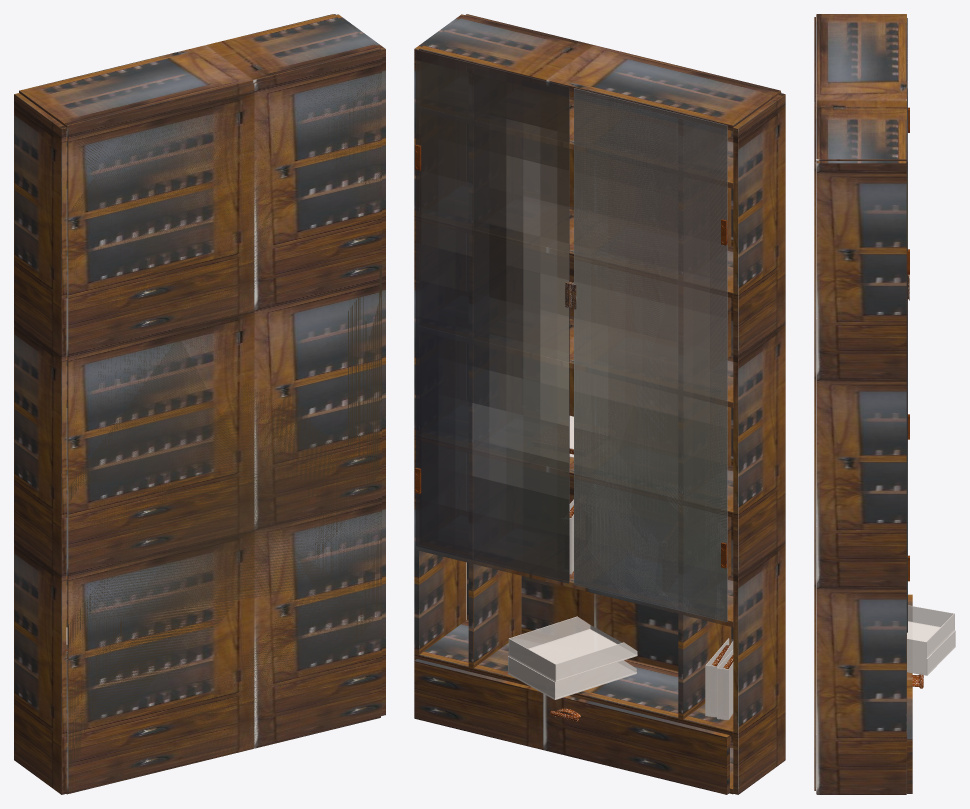
The picture shows the model from 3 angles, left to right: view 1: azimuth 30°, elevation 25°; view 2: azimuth 150°, elevation 25°; view 3: azimuth 270°, elevation 25°; orthographic projection. The views are drawn at different scales.
Visible parts, largest first — view 1: mesh18_mesh18-geometry, mesh20_mesh20-geometry, mesh27_mesh27-geometry, mesh38_mesh38-geometry; view 2: mesh22_mesh22-geometry, mesh37_mesh37-geometry, mesh27_mesh27-geometry, mesh20_mesh20-geometry, mesh24_mesh24-geometry, mesh18_mesh18-geometry, mesh38_mesh38-geometry, mesh9_mesh9-geometry, mesh15_mesh15-geometry, mesh5_mesh5-geometry, mesh7_mesh7-geometry, mesh3_mesh3-geometry (+3 smaller); view 3: mesh38_mesh38-geometry, mesh27_mesh27-geometry, mesh18_mesh18-geometry, mesh37_mesh37-geometry, mesh9_mesh9-geometry, mesh24_mesh24-geometry, mesh7_mesh7-geometry, mesh1_mesh1-geometry, mesh11_mesh11-geometry, mesh5_mesh5-geometry, mesh8_mesh8-geometry, mesh4_mesh4-geometry.
Boxes of the visible parts, x1=… form: mesh18_mesh18-geometry: x1=67, y1=52, x2=381, y2=792; mesh20_mesh20-geometry: x1=14, y1=93, x2=66, y2=794; mesh27_mesh27-geometry: x1=19, y1=14, x2=380, y2=794; mesh38_mesh38-geometry: x1=335, y1=14, x2=385, y2=715; mesh22_mesh22-geometry: x1=574, y1=88, x2=727, y2=621; mesh37_mesh37-geometry: x1=416, y1=49, x2=569, y2=583; mesh27_mesh27-geometry: x1=419, y1=14, x2=780, y2=794; mesh20_mesh20-geometry: x1=733, y1=93, x2=785, y2=794; mesh24_mesh24-geometry: x1=414, y1=659, x2=729, y2=794; mesh18_mesh18-geometry: x1=467, y1=91, x2=781, y2=742; mesh38_mesh38-geometry: x1=414, y1=14, x2=466, y2=660; mesh9_mesh9-geometry: x1=508, y1=625, x2=637, y2=682; mesh15_mesh15-geometry: x1=569, y1=415, x2=733, y2=720; mesh5_mesh5-geometry: x1=508, y1=661, x2=636, y2=699; mesh7_mesh7-geometry: x1=555, y1=642, x2=637, y2=680; mesh3_mesh3-geometry: x1=555, y1=660, x2=636, y2=698; mesh38_mesh38-geometry: x1=816, y1=161, x2=906, y2=794; mesh27_mesh27-geometry: x1=816, y1=14, x2=906, y2=793; mesh18_mesh18-geometry: x1=814, y1=17, x2=815, y2=790; mesh37_mesh37-geometry: x1=906, y1=91, x2=907, y2=632; mesh9_mesh9-geometry: x1=907, y1=621, x2=954, y2=658; mesh24_mesh24-geometry: x1=907, y1=594, x2=912, y2=793; mesh7_mesh7-geometry: x1=908, y1=605, x2=954, y2=628; mesh1_mesh1-geometry: x1=926, y1=630, x2=955, y2=674; mesh11_mesh11-geometry: x1=926, y1=613, x2=954, y2=657; mesh5_mesh5-geometry: x1=907, y1=646, x2=955, y2=675; mesh8_mesh8-geometry: x1=907, y1=638, x2=926, y2=657; mesh4_mesh4-geometry: x1=907, y1=655, x2=927, y2=674.
Size of the model in its own units: 0.4451 by 0.8778 by 0.1773.
